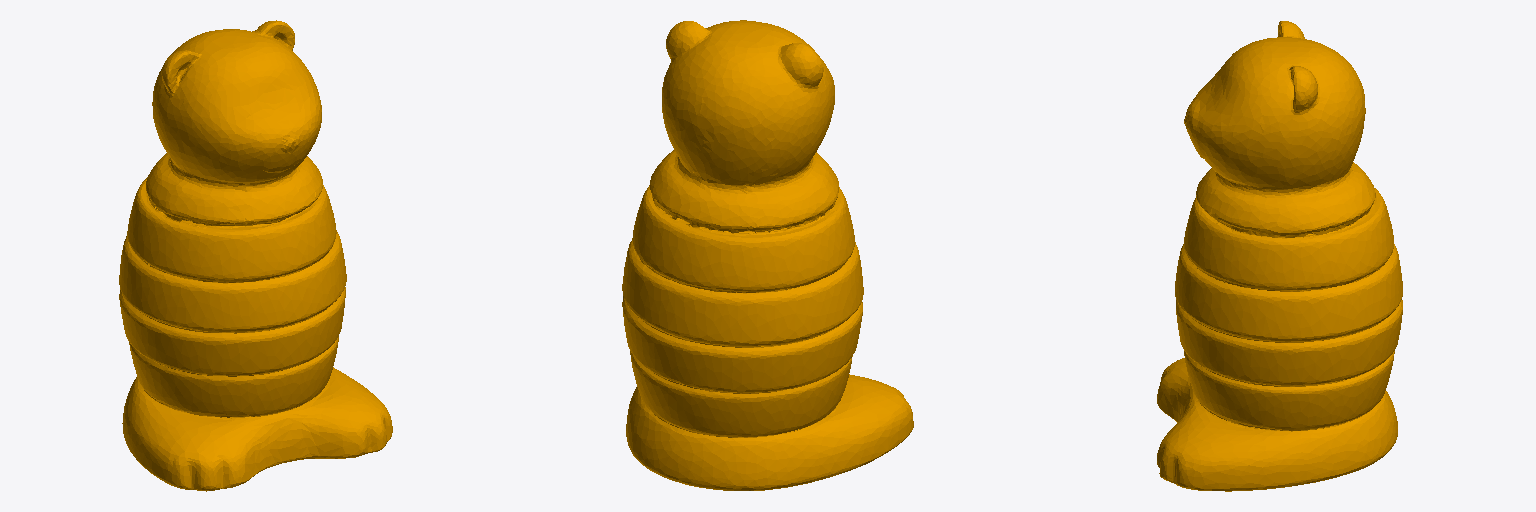
The robot description file, URDF, robot "STACKING_BEAR":
<?xml version="1.0" ?>
<robot name="STACKING_BEAR">
  <link name="link_0">
    <inertial>
      <origin xyz="0 0 0" rpy="0 0 0"/>
      <mass value="1.0"/>
      <inertia ixx="0.1" ixy="0.0" ixz="0.0" iyy="0.1" iyz="0.0" izz="0.1"/>
    </inertial>
    <visual name="visual">
      <origin xyz="0 0 0" rpy="0 0 0"/>
      <geometry>
        <mesh filename="meshes/model.obj"/>
      </geometry>
    </visual>
    <collision name="collision_0">
      <origin xyz="0 0 0" rpy="0 0 0"/>
      <geometry>
        <mesh filename="meshes/model.obj"/>
      </geometry>
    </collision>
  </link>
</robot>

--- What the picture shows (computed from the rendered views, not written in the file) ---
Views: 3 orthographic renders of the robot side by side, from view 1: azimuth 30°, elevation 25°; view 2: azimuth 150°, elevation 25°; view 3: azimuth 270°, elevation 25°.
Model STACKING_BEAR with 1 links and 0 joints (none), rooted at link_0, posed all joints at 0.
Visible links, largest first — view 1: link_0; view 2: link_0; view 3: link_0.
Link boxes in pixels (box(x1,y1,x2,y2)): link_0: box(119, 20, 392, 491); link_0: box(622, 20, 913, 490); link_0: box(1157, 21, 1402, 491).
Size in the robot's own frame: 0.1081 by 0.1012 by 0.178 metres.
Meshes: 1 distinct files referenced, 1 mesh visuals loaded (1 OBJ).